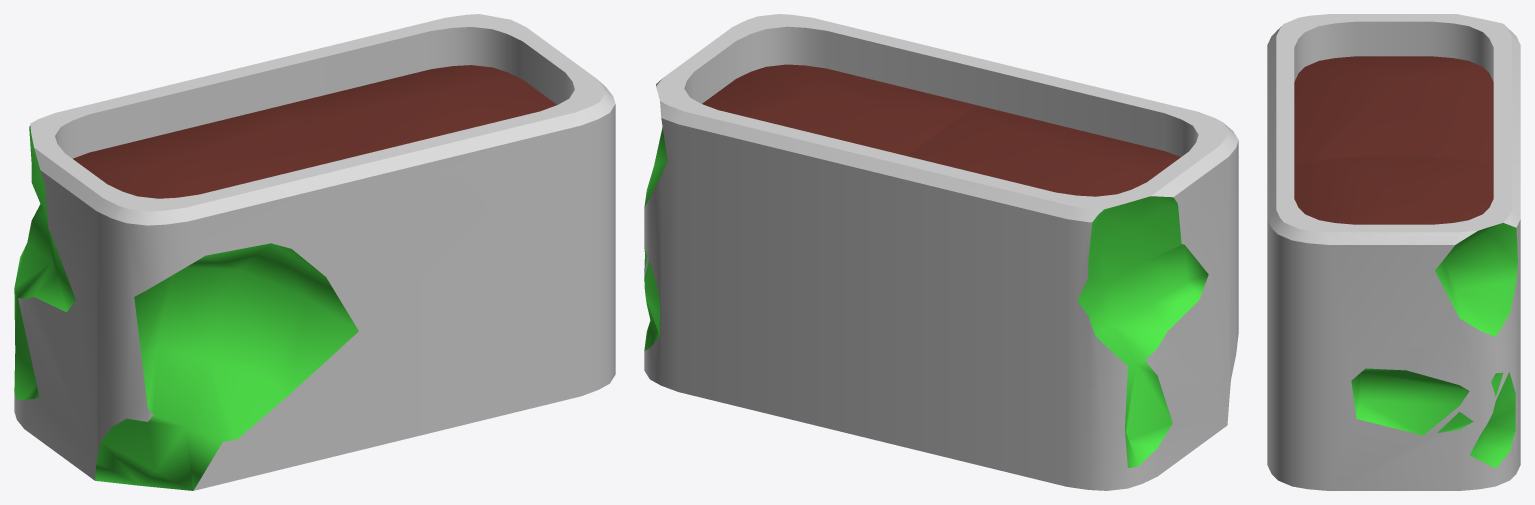
File: Plant Pot Long Destroyed A.fbx
3 views of the same model, side by side, from view 1: azimuth 30°, elevation 25°; view 2: azimuth 150°, elevation 25°; view 3: azimuth 270°, elevation 25° (orthographic). The views are drawn at different scales.
Visible parts, largest first — view 1: Plant Long Destroyed A; view 2: Plant Long Destroyed A; view 3: Plant Long Destroyed A.
Boxes of the visible parts, x1=… form: Plant Long Destroyed A: x1=14, y1=14, x2=615, y2=490; Plant Long Destroyed A: x1=644, y1=14, x2=1238, y2=490; Plant Long Destroyed A: x1=1267, y1=14, x2=1520, y2=490.
Size of the model in its own units: 1.9 by 1 by 0.9.
